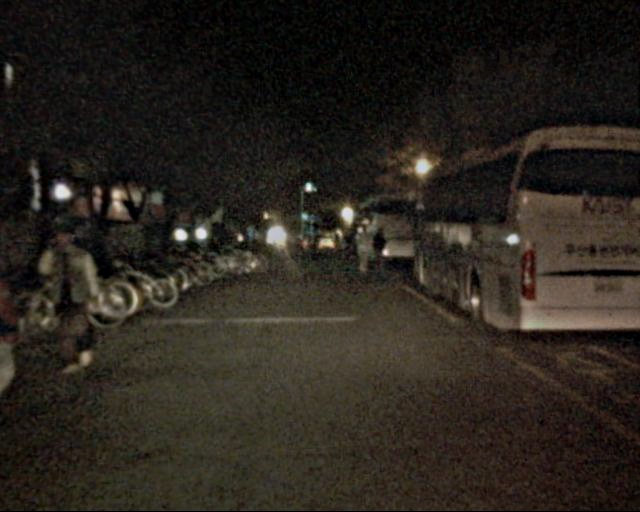person: (36, 217, 110, 377), (1, 235, 34, 411), (370, 228, 390, 277), (354, 228, 373, 274), (339, 229, 353, 264)
